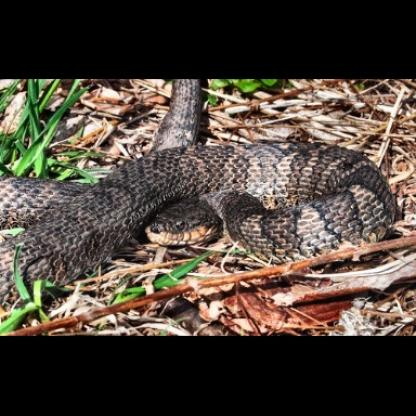Snake: (5, 81, 410, 274)
